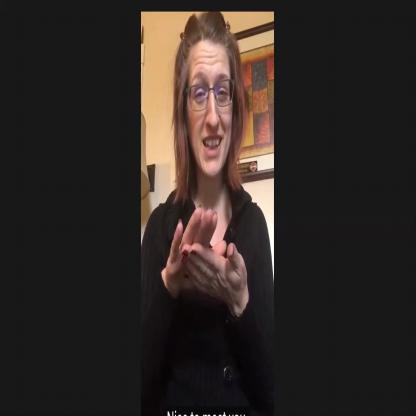NiceToMeetYou: (165, 198, 260, 330)
